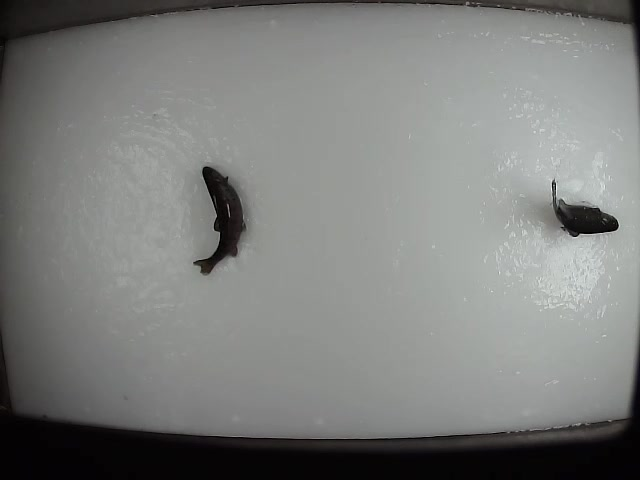fish: (192, 162, 249, 276), (545, 177, 620, 241)
